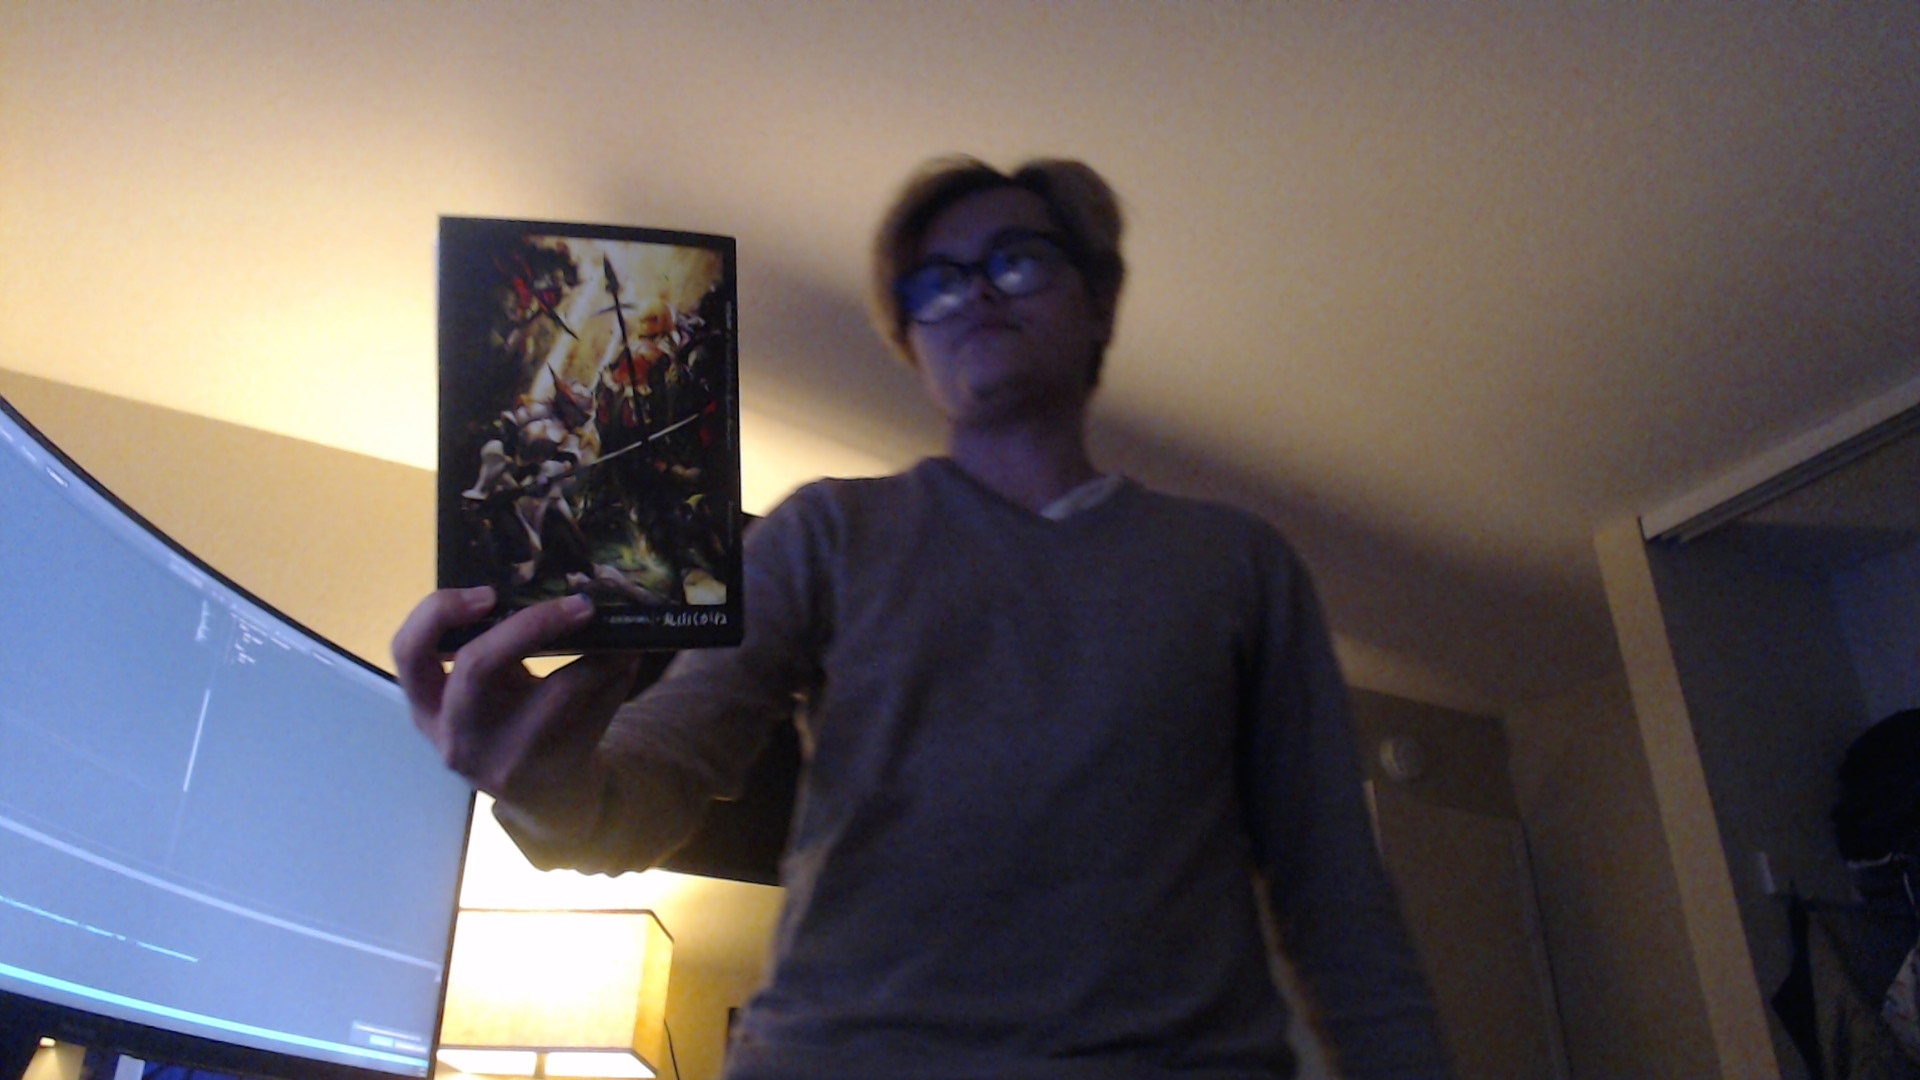book: (435, 210, 742, 653)
